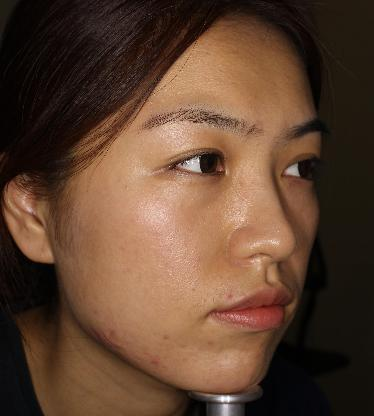acne scar: (157, 328, 176, 346), (104, 323, 122, 341), (148, 355, 164, 371), (223, 289, 239, 302)
